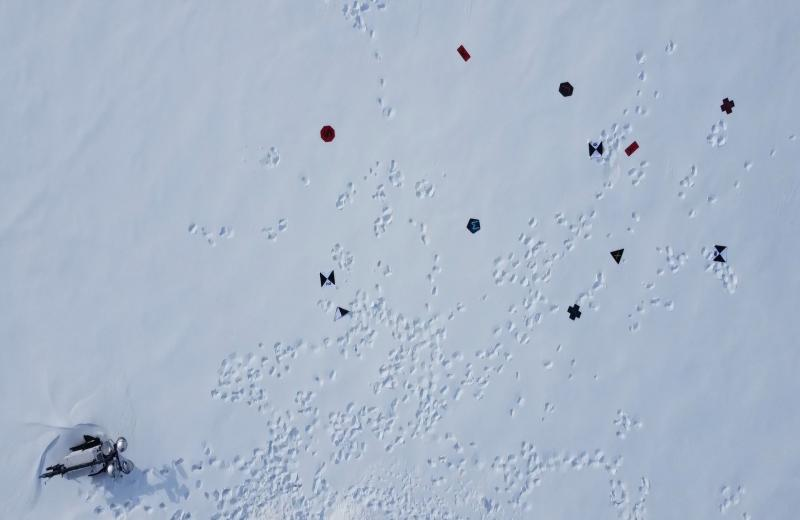Cross: (566, 302, 584, 322), (719, 98, 736, 116)
Hexagon: (557, 81, 574, 99)
Octagon: (319, 124, 336, 144)
Pentagon: (465, 216, 481, 235)
Rectangle: (455, 42, 471, 64), (624, 138, 640, 158)
Triangle: (610, 248, 626, 266)
